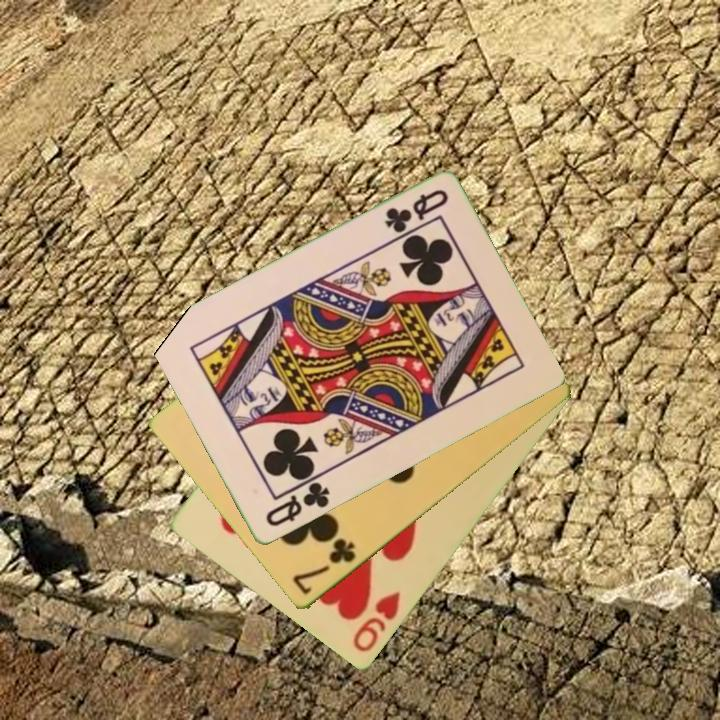7c: (289, 534, 359, 599)
9h: (349, 588, 404, 656)
Qc: (261, 479, 333, 531), (381, 186, 452, 237)
